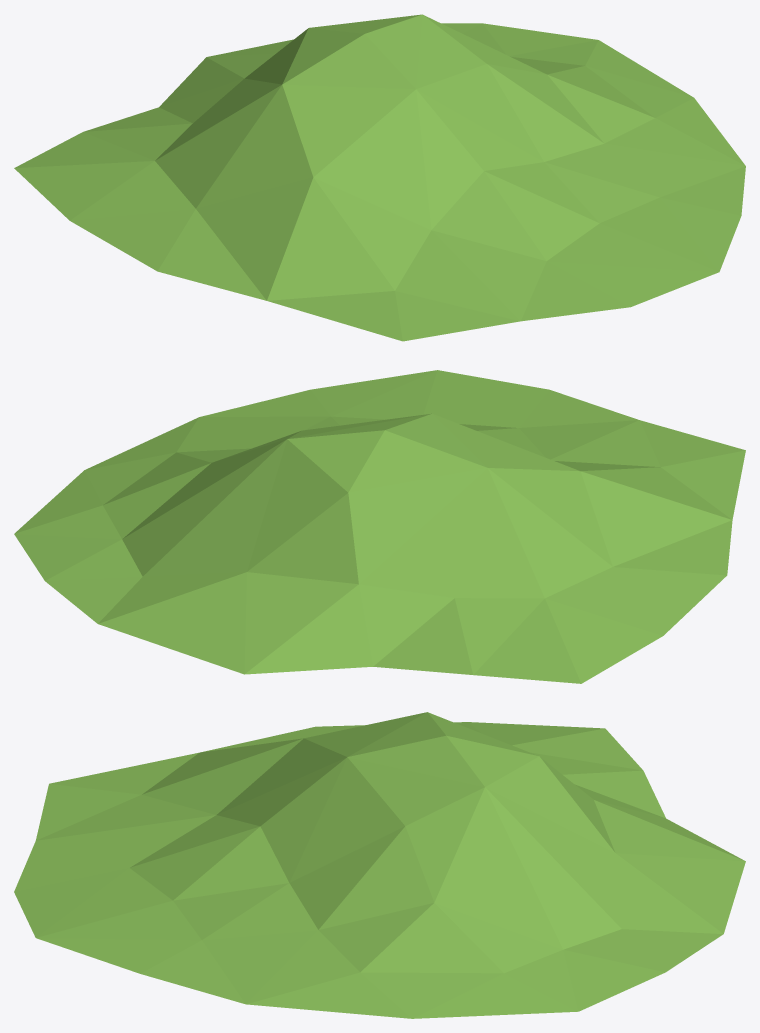
The model's file is MT_Mountain_S_a_08.fbx.
The picture shows the model from 3 angles, top to bottom: view 1: azimuth 30°, elevation 25°; view 2: azimuth 150°, elevation 25°; view 3: azimuth 270°, elevation 25°; orthographic projection.
Parts seen in each view (by area): view 1: MT_Mountain_S_a_08; view 2: MT_Mountain_S_a_08; view 3: MT_Mountain_S_a_08.
Boxes of the visible parts, x1=… form: MT_Mountain_S_a_08: x1=14, y1=14, x2=745, y2=341; MT_Mountain_S_a_08: x1=14, y1=370, x2=745, y2=683; MT_Mountain_S_a_08: x1=14, y1=712, x2=745, y2=1018.
Bounding box in the file's own units: 1877 × 389 × 1973.
